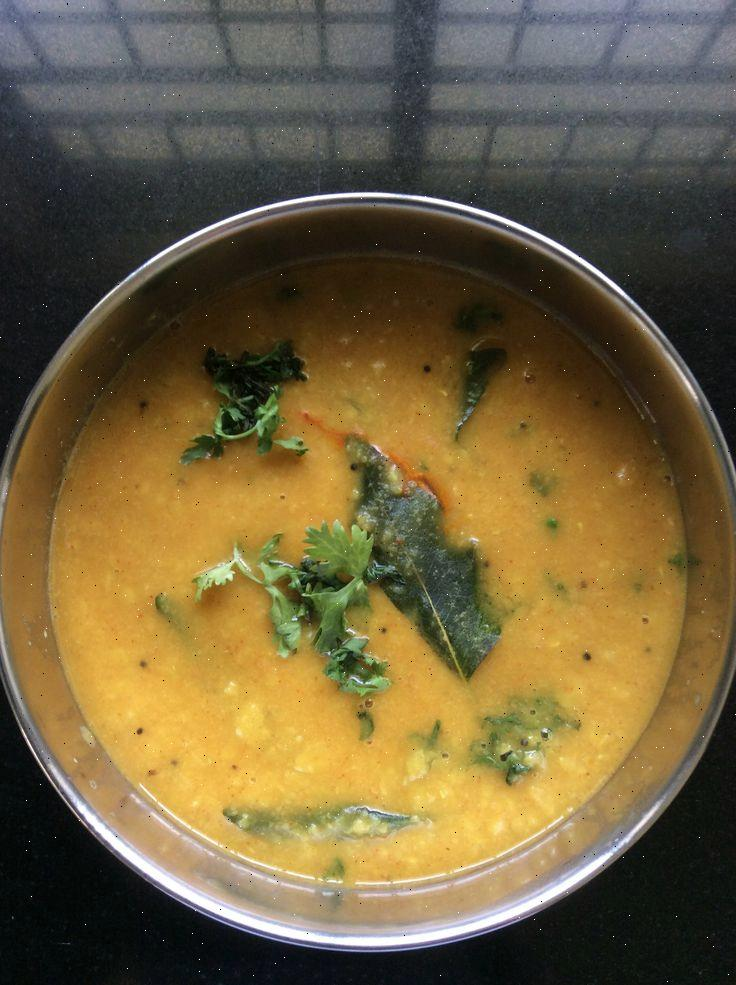daal: (5, 292, 720, 899)
